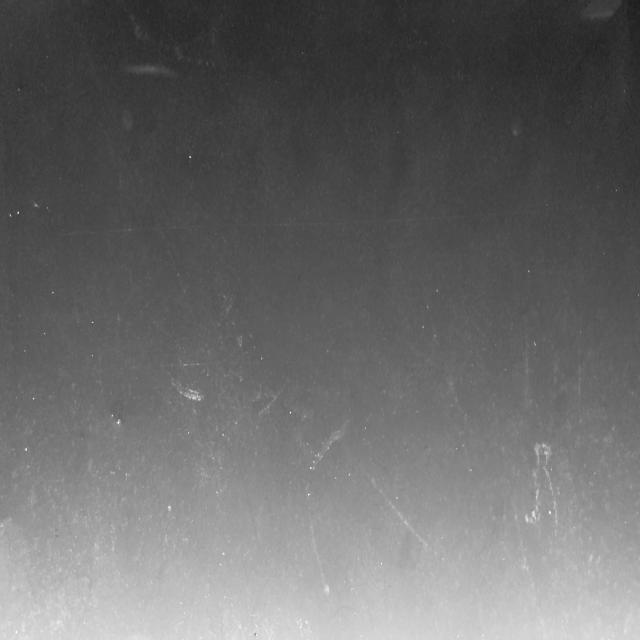beta: (65, 0, 207, 342), (360, 460, 446, 562), (430, 329, 474, 479), (511, 500, 548, 638), (522, 438, 560, 538), (304, 481, 329, 598), (257, 376, 289, 418), (577, 342, 584, 425)
